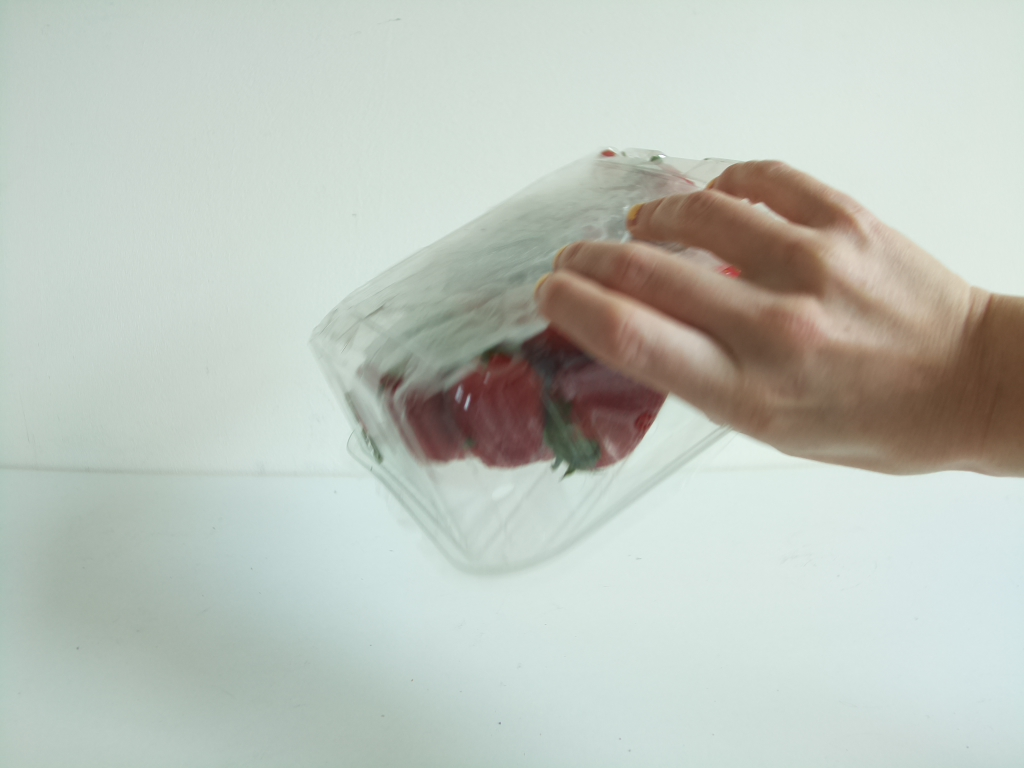soft-fruit: (303, 142, 838, 577)
